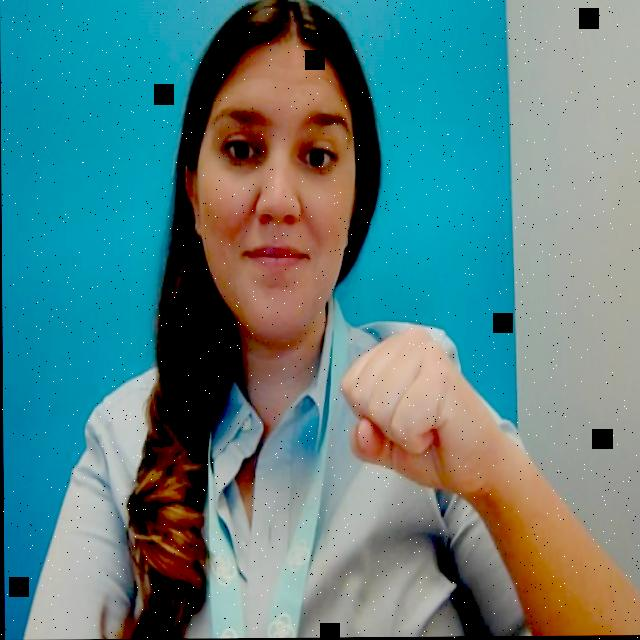Rock: (339, 313, 488, 514)
